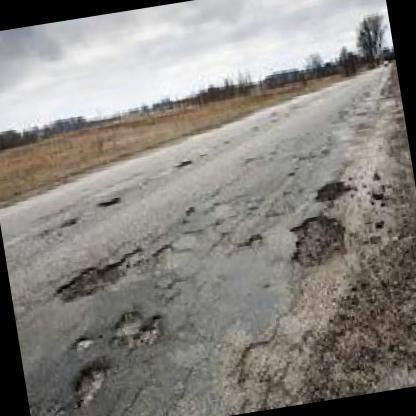pothole: (52, 242, 200, 306), (288, 213, 346, 270), (109, 306, 174, 348), (76, 335, 94, 353)
